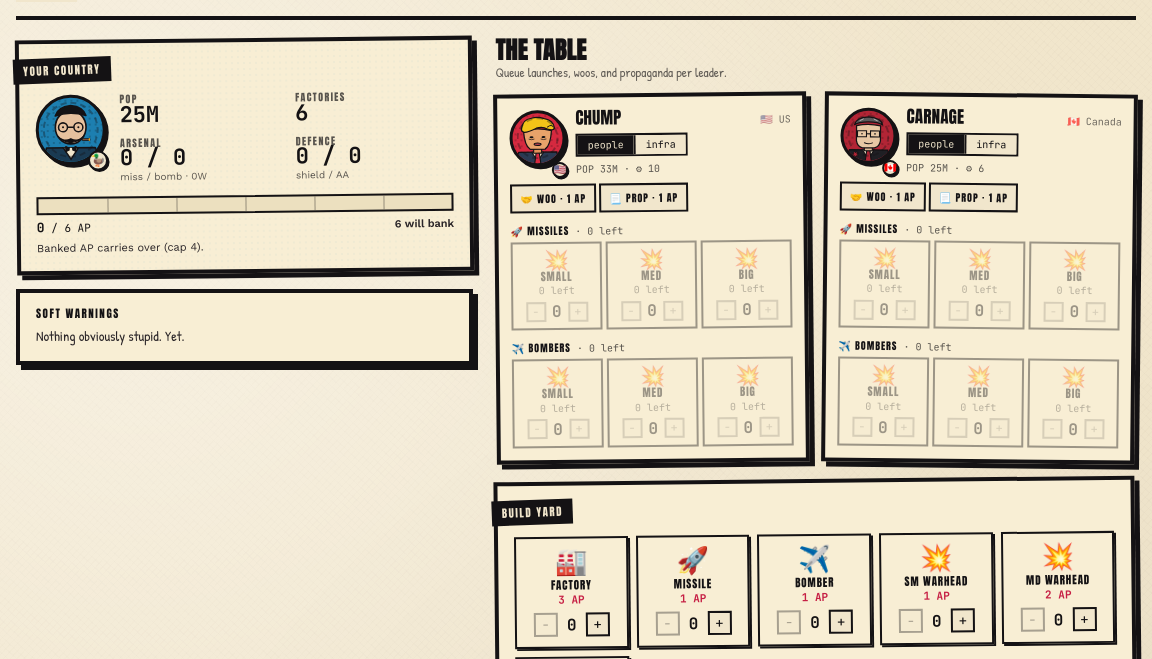
Scenario: <Planning> orders queue › queuing via a stepper shows a row with the label and AP cost
Step 1. Click the button named "add Factory" → (598, 625), box 586,613 -> 610,637
(page scrolled)
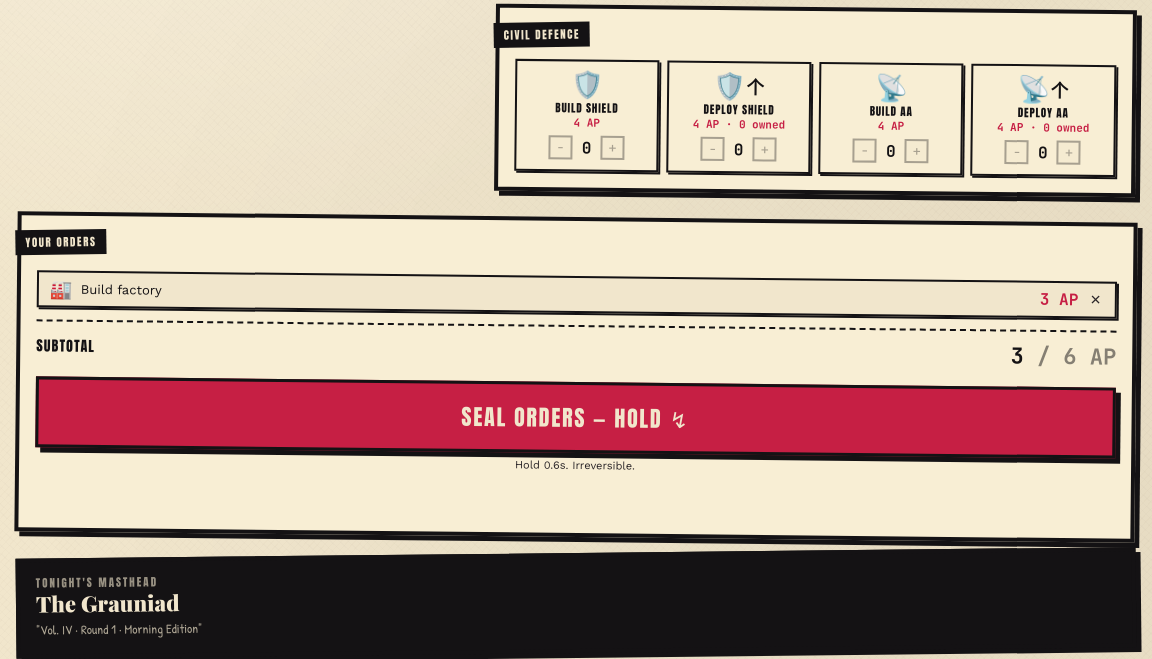
Expected: the text "Build factory" is shown, 81,281 -> 162,297
Expected: the text "3 AP" is shown, 1040,288 -> 1078,310
